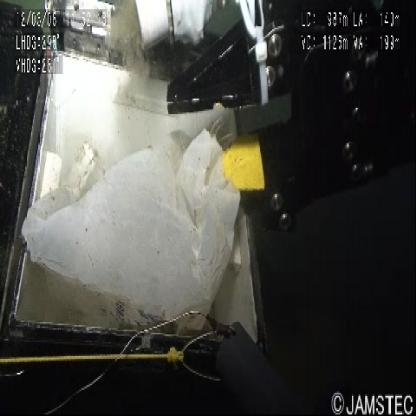Rov: (38, 2, 416, 254)
Rác: (4, 119, 248, 342)
